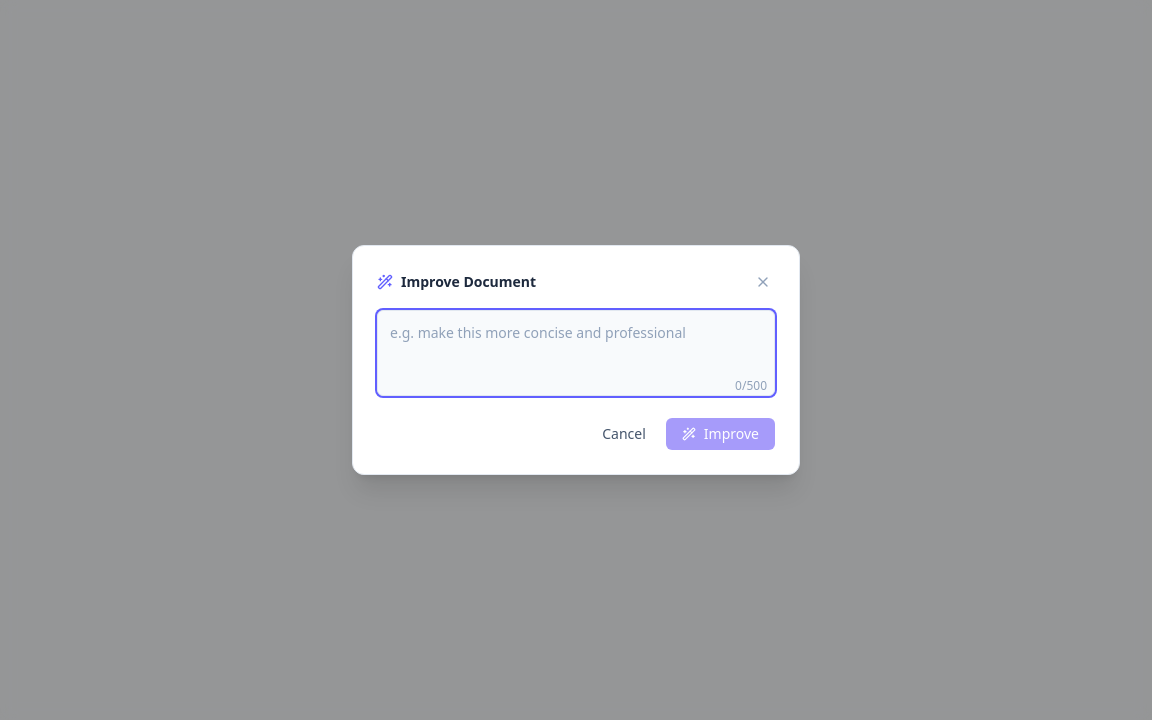
DocumentImprovementModal › shows character count
Type "hello" into the text box named "improvement instruction" at (576,353), box [377,310,775,396]
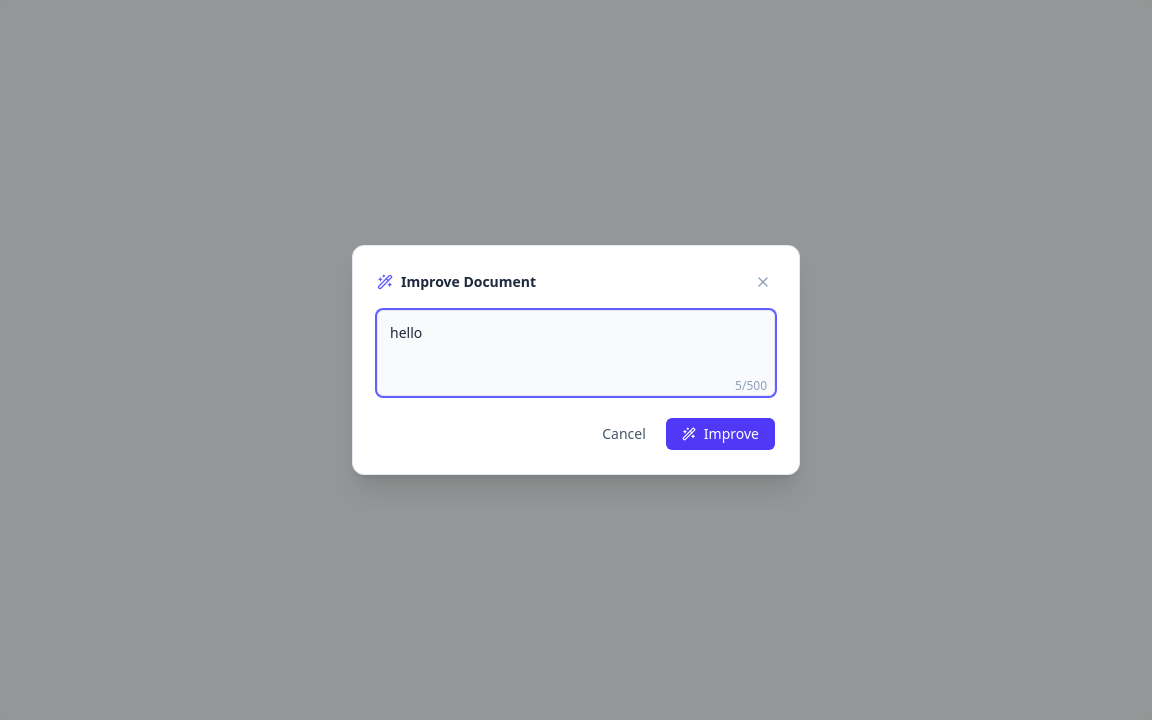
Check: the text "5/500" is shown, box [735,378,767,394]
